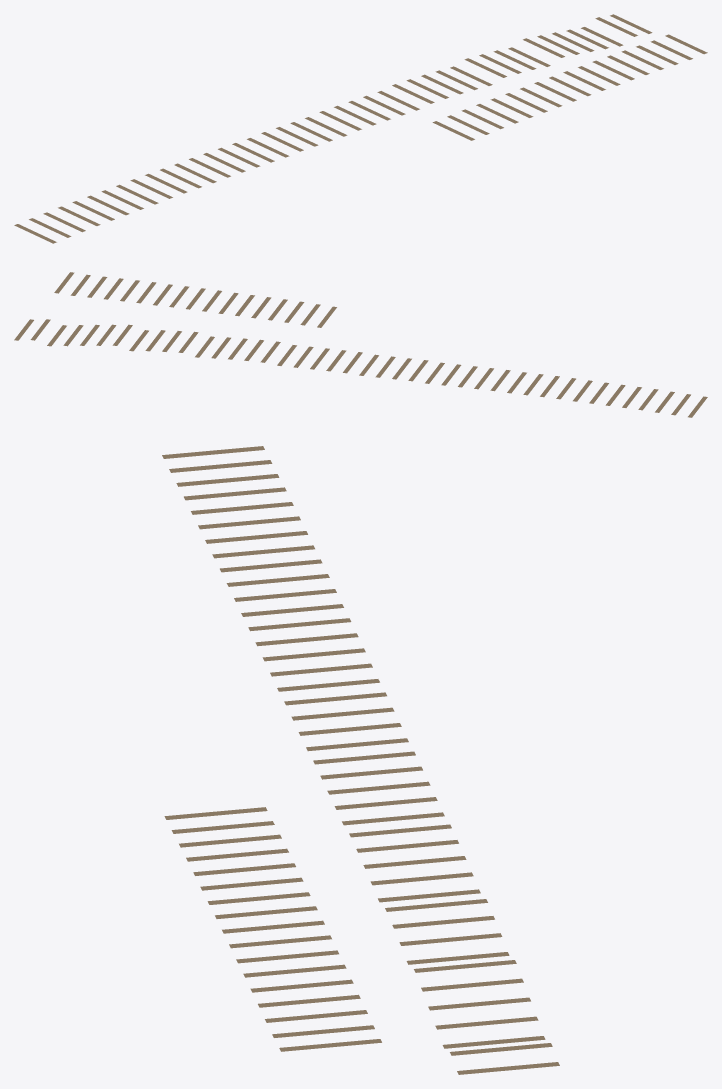
The model's file is c_1623_17835_rail_sleeper.glb.
3 renders of one model, top to bottom at view 1: azimuth 30°, elevation 25°; view 2: azimuth 150°, elevation 25°; view 3: azimuth 270°, elevation 25°, orthographic. The views are drawn at different scales.
Parts seen in each view (by area): view 1: geometry_0; view 2: geometry_0; view 3: geometry_0.
Part boxes in pixels (box(x1,y1,x2,y2)): geometry_0: box(14, 14, 707, 243); geometry_0: box(14, 272, 707, 417); geometry_0: box(162, 446, 559, 1074).
Bounding box in the file's own units: 33.02 × 0.8795 × 9.22.
